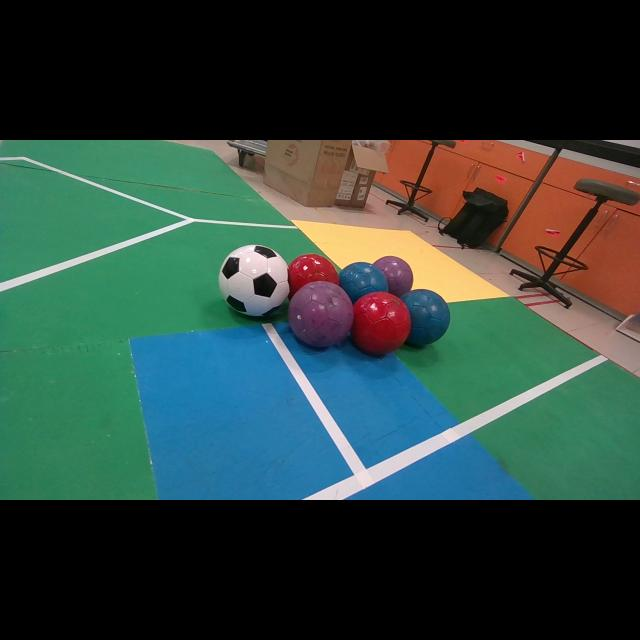B: (401, 289, 450, 346), (339, 262, 389, 303)
P: (289, 281, 354, 348), (374, 256, 414, 298)
R: (351, 291, 411, 355), (289, 254, 339, 297)
